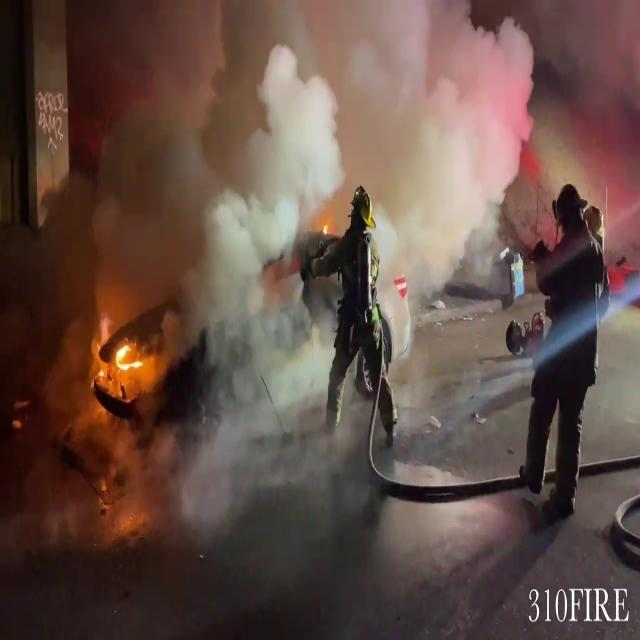Fire: (88, 307, 140, 390)
Smoke: (24, 0, 548, 283), (186, 159, 340, 507)
